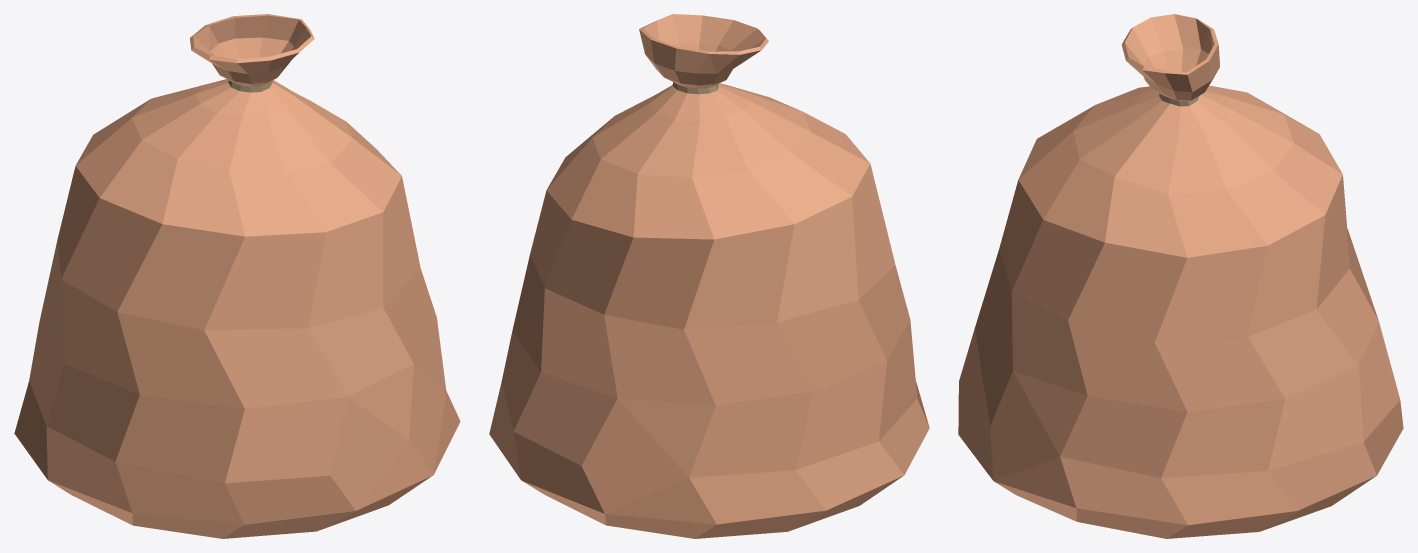
File: Bag_3.fbx
3 views of the same model, side by side, from view 1: azimuth 30°, elevation 25°; view 2: azimuth 150°, elevation 25°; view 3: azimuth 270°, elevation 25° (orthographic).
Parts seen in each view (by area): view 1: Bag_3; view 2: Bag_3; view 3: Bag_3.
Part boxes in pixels (left/top/right/bottom): Bag_3: left=14, top=14, right=460, bottom=538; Bag_3: left=489, top=14, right=929, bottom=538; Bag_3: left=958, top=14, right=1403, bottom=538.
Bounding box in the file's own units: 0.8661 × 0.919 × 0.8693.
